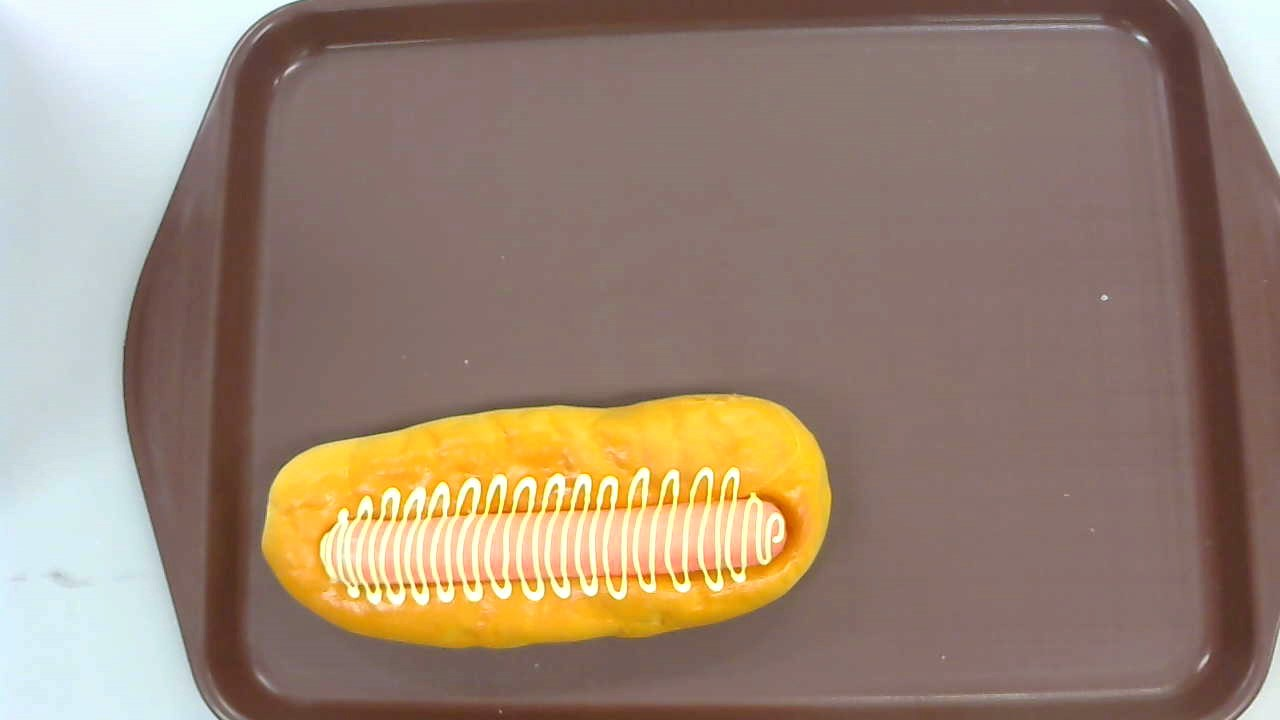hot dog: (261, 393, 831, 650)
